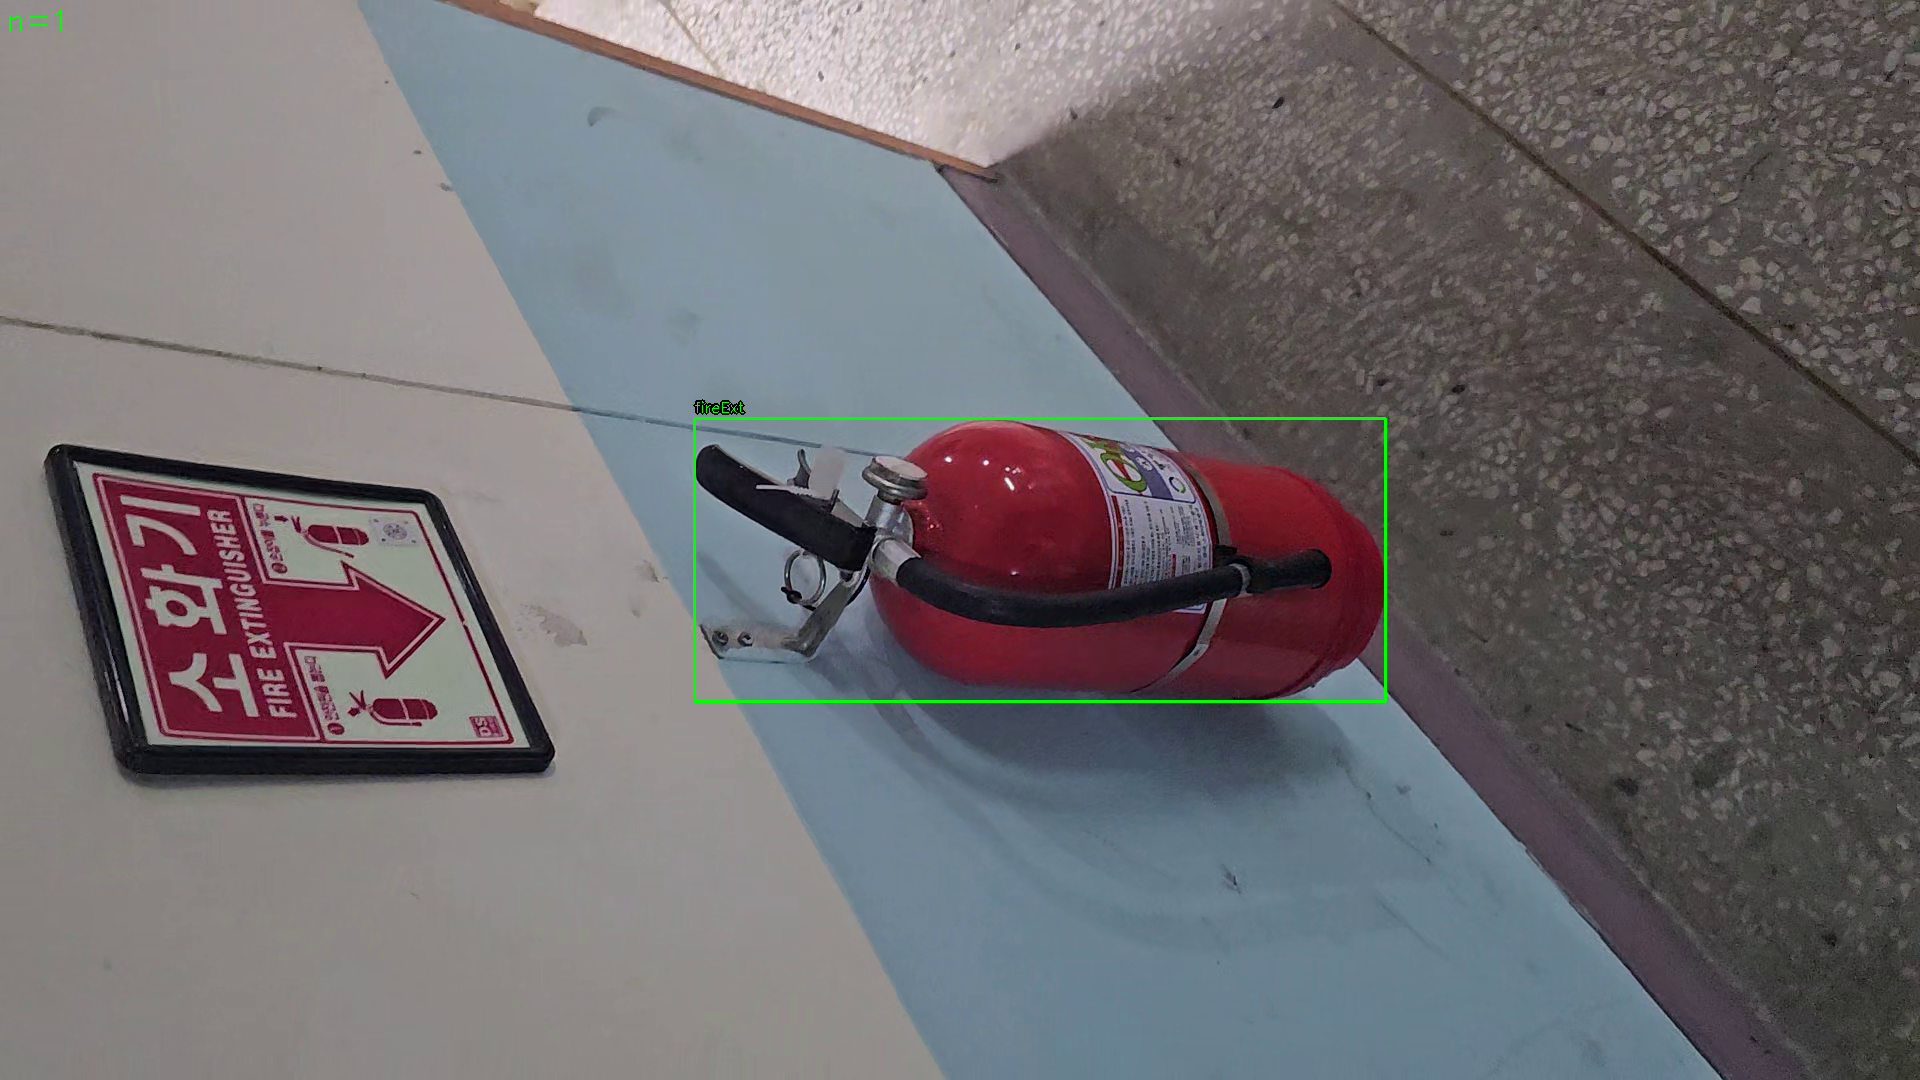lane: (694, 418, 1386, 702)
